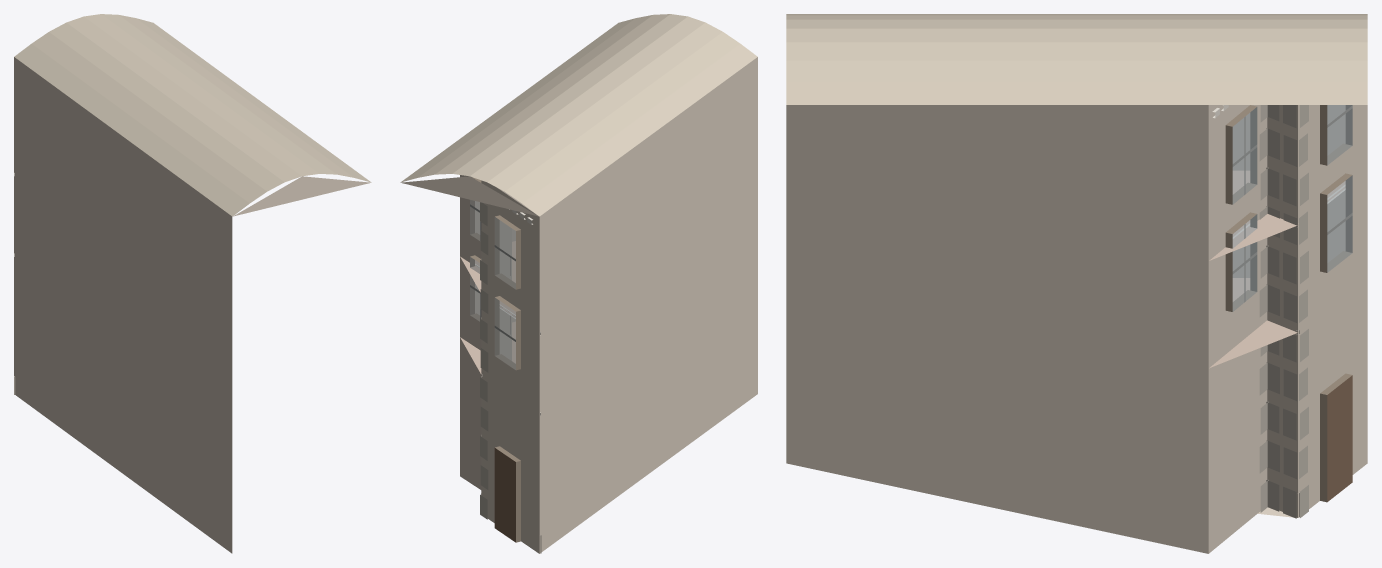
The model's file is W-34-36-FIRIN.w36_internal_vault.glb.
3 views of the same model, side by side, from view 1: azimuth 30°, elevation 25°; view 2: azimuth 150°, elevation 25°; view 3: azimuth 270°, elevation 25° (orthographic). The views are drawn at different scales.
Parts seen in each view (by area): view 1: W-34-36-FIRIN.w36_internal_vault; view 2: W-34-36-FIRIN.w36_internal_vault; view 3: W-34-36-FIRIN.w36_internal_vault.
Part boxes in pixels (<box>): W-34-36-FIRIN.w36_internal_vault: <box>14,14,371,553</box>; W-34-36-FIRIN.w36_internal_vault: <box>400,14,757,553</box>; W-34-36-FIRIN.w36_internal_vault: <box>786,14,1367,553</box>.
Bounding box in the file's own units: 4 × 9.84 × 10.8.
